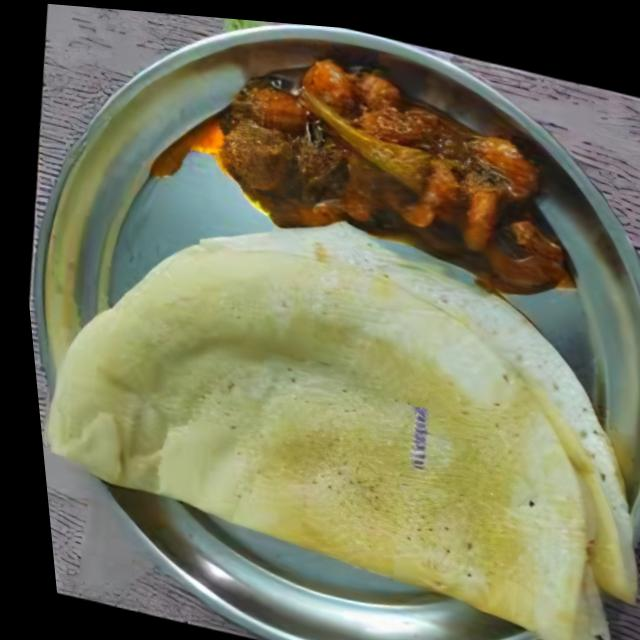DOSA: (50, 206, 640, 640)
VEGGIES: (213, 30, 585, 279)
